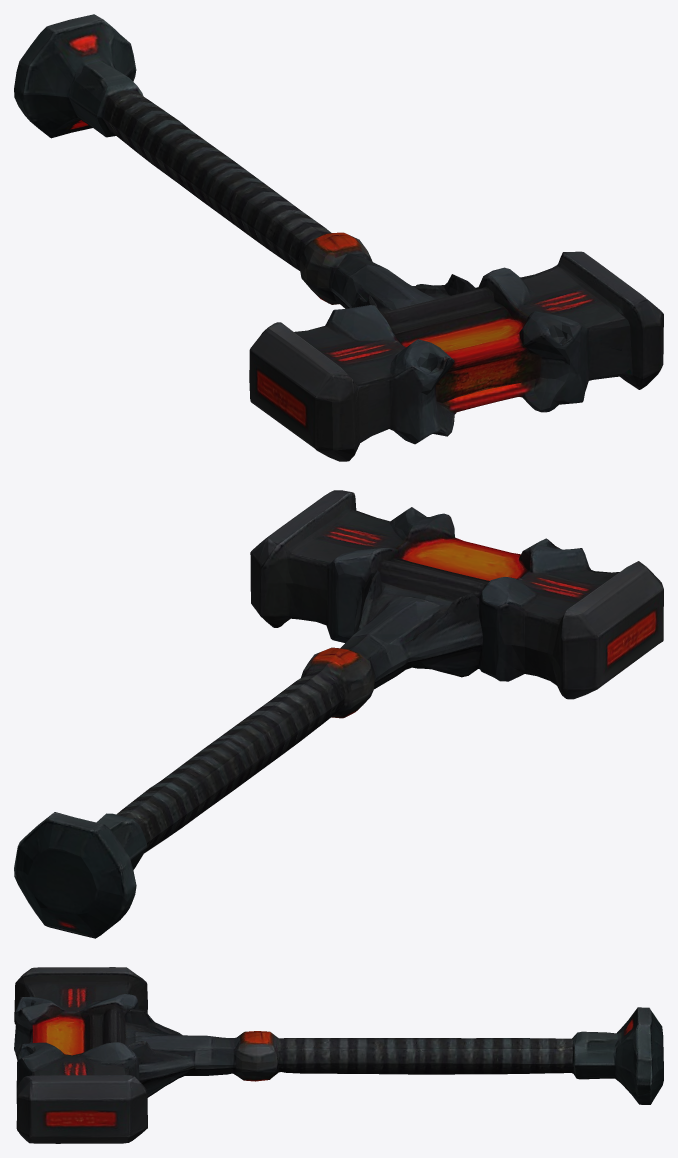
File: hammer.glb
3 renders of one model, top to bottom at view 1: azimuth 30°, elevation 25°; view 2: azimuth 150°, elevation 25°; view 3: azimuth 270°, elevation 25°, orthographic. The views are drawn at different scales.
Visible parts, largest first — view 1: geometry_0; view 2: geometry_0; view 3: geometry_0.
Part boxes in pixels (x1=…): geometry_0: x1=14, y1=14, x2=663, y2=461; geometry_0: x1=14, y1=490, x2=663, y2=938; geometry_0: x1=14, y1=967, x2=663, y2=1143.
Bounding box in the file's own units: 0.4564 × 0.1363 × 0.9972.
Materials: 1 (1 with a texture image).
